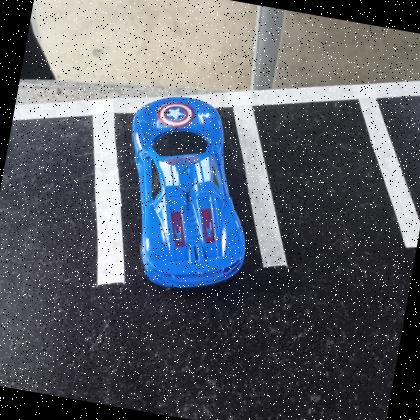Car: (132, 97, 246, 290)
